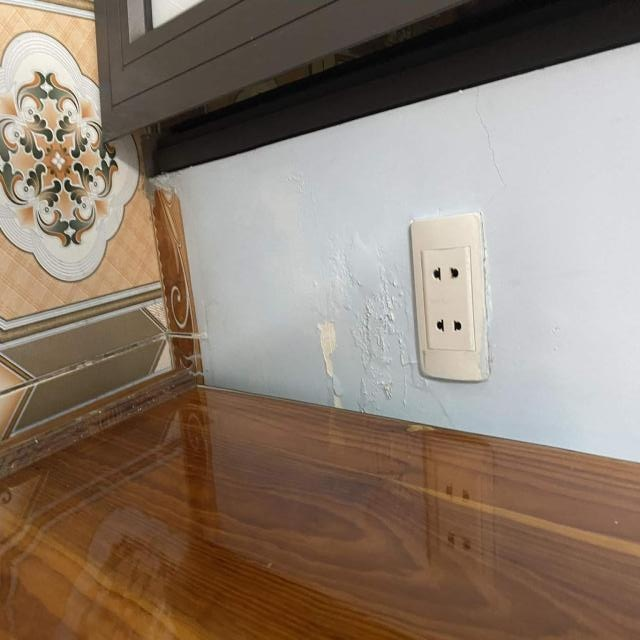outlet: (410, 210, 492, 382)
